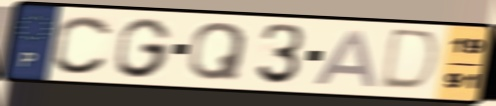3: (255, 22, 308, 87)
A: (310, 27, 381, 90)
C: (50, 13, 116, 77)
D: (375, 26, 443, 95)
G: (113, 16, 175, 80)
Q: (185, 20, 250, 82)
